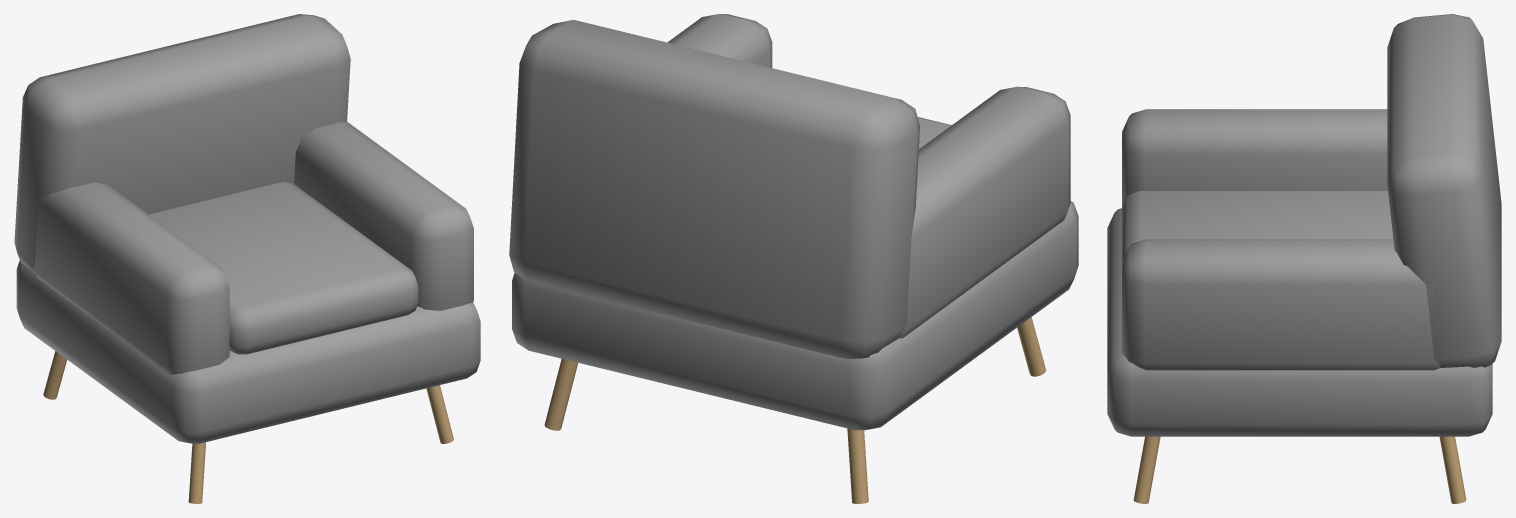
Rendered from i_arm_0.glb.
3 renders of one model, left to right at view 1: azimuth 30°, elevation 25°; view 2: azimuth 150°, elevation 25°; view 3: azimuth 270°, elevation 25°, orthographic. The views are drawn at different scales.
Parts seen in each view (by area): view 1: o.002, o, o.001, o.003, o.004, o.005, o.007, o.006; view 2: o.002, o, o.003, o.004, o.006, o.008, o.005; view 3: o.004, o.002, o, o.003, o.001, o.008, o.007.
Boxes of the visible parts, x1,y1,x2,y2 form: o.002: (14, 14, 350, 274); o: (16, 260, 480, 443); o.001: (149, 182, 418, 354); o.003: (34, 182, 229, 374); o.004: (294, 122, 473, 310); o.005: (188, 442, 205, 503); o.007: (426, 385, 453, 443); o.006: (43, 351, 66, 399); o.002: (509, 19, 919, 359); o: (512, 201, 1078, 430); o.003: (899, 86, 1070, 338); o.004: (667, 14, 772, 67); o.006: (847, 428, 868, 503); o.008: (544, 359, 577, 430); o.005: (1017, 317, 1046, 376); o.004: (1122, 239, 1439, 370); o.002: (1387, 14, 1501, 367); o: (1107, 208, 1492, 436); o.003: (1122, 109, 1387, 207); o.001: (1122, 190, 1393, 261); o.008: (1439, 436, 1466, 503); o.007: (1133, 436, 1160, 503).
Size of the model in its own units: 0.8 by 0.8064 by 0.8185.
